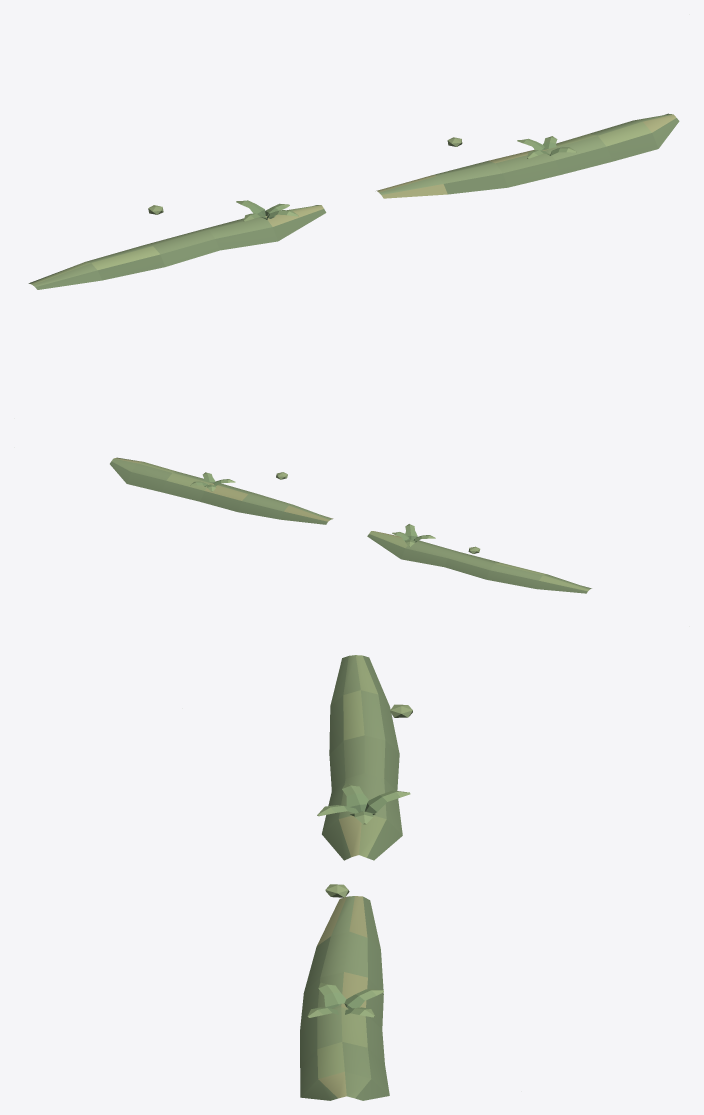
The model's file is MossyLog_leaf.glb.
3 views of the same model, one above another, from view 1: azimuth 30°, elevation 25°; view 2: azimuth 150°, elevation 25°; view 3: azimuth 270°, elevation 25° (orthographic). The views are drawn at different scales.
Parts seen in each view (by area): view 1: MossyLog_leaf; view 2: MossyLog_leaf; view 3: MossyLog_leaf.
Boxes of the visible parts, x1,y1,x2,y2 form: MossyLog_leaf: [28, 113, 679, 289]; MossyLog_leaf: [110, 457, 591, 593]; MossyLog_leaf: [300, 655, 412, 1100].
Bounding box in the file's own units: 26.3 × 4.11 × 6.54.
